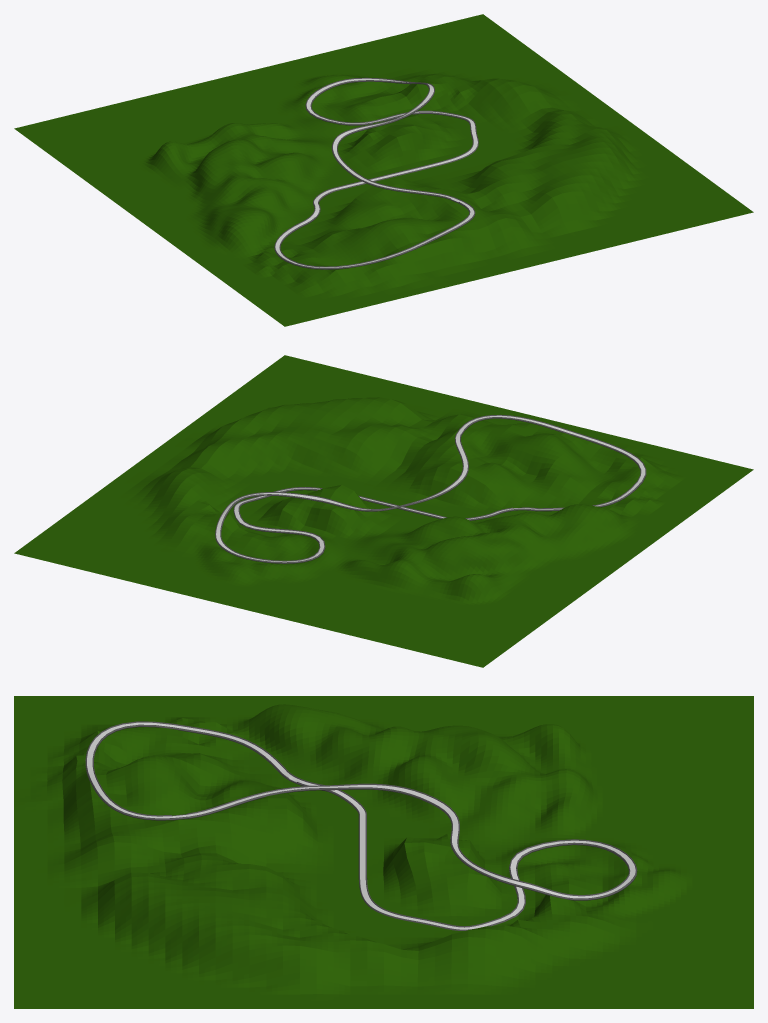
The model's file is road15.fbx.
The picture shows the model from 3 angles, top to bottom: view 1: azimuth 30°, elevation 25°; view 2: azimuth 150°, elevation 25°; view 3: azimuth 270°, elevation 25°; orthographic projection. The views are drawn at different scales.
Parts seen in each view (by area): view 1: Ground, Circuit; view 2: Ground, Circuit; view 3: Ground, Circuit.
Boxes of the visible parts, left/top/right/bottom form: Ground: left=14, top=14, right=753, bottom=326; Circuit: left=274, top=77, right=478, bottom=269; Ground: left=14, top=355, right=753, bottom=667; Circuit: left=215, top=414, right=646, bottom=563; Ground: left=14, top=696, right=753, bottom=1008; Circuit: left=85, top=721, right=637, bottom=930.
Size of the model in its own units: 354 by 21.84 by 354.
